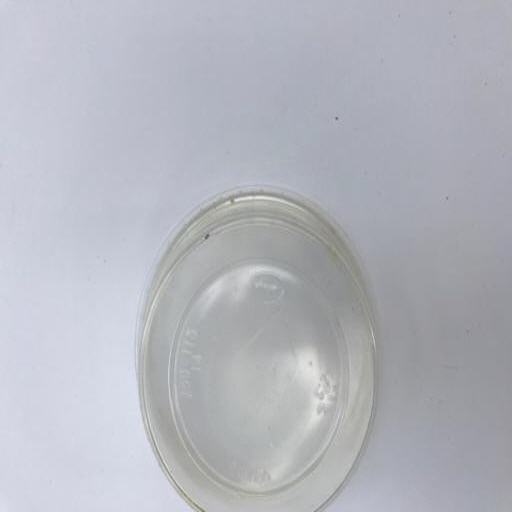Plastic_5: (134, 184, 386, 512)
